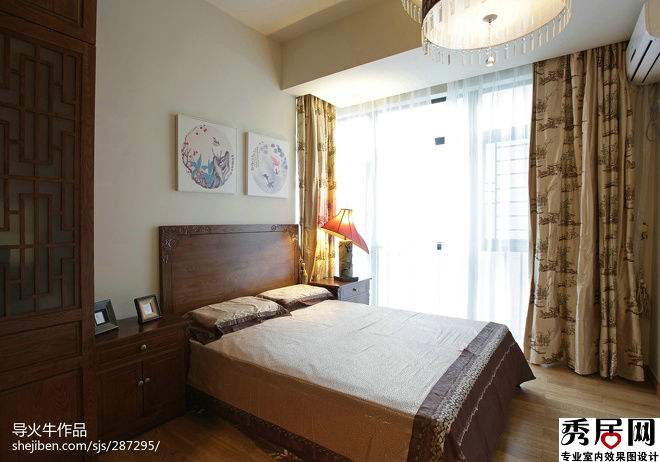床: (193, 294, 513, 453)
枕头: (197, 288, 337, 334)
灯: (417, 2, 569, 70), (321, 207, 361, 283)
